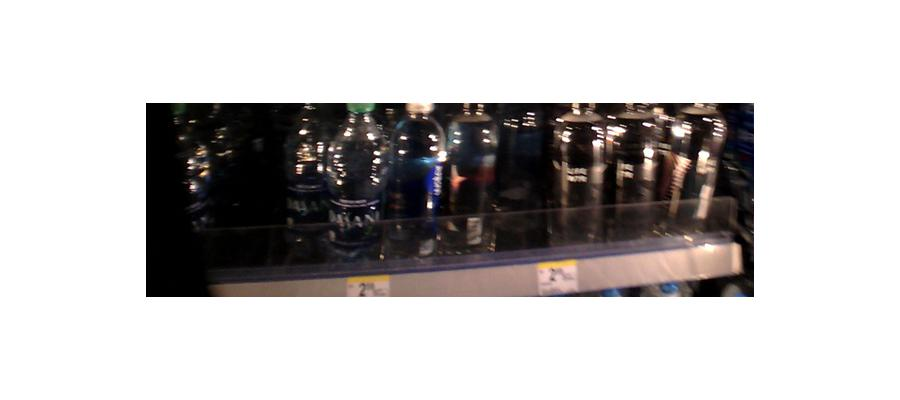bottle: (382, 104, 443, 260), (661, 103, 728, 234), (327, 103, 383, 257), (554, 100, 608, 247), (281, 101, 329, 261), (445, 103, 494, 254), (495, 112, 545, 257)
